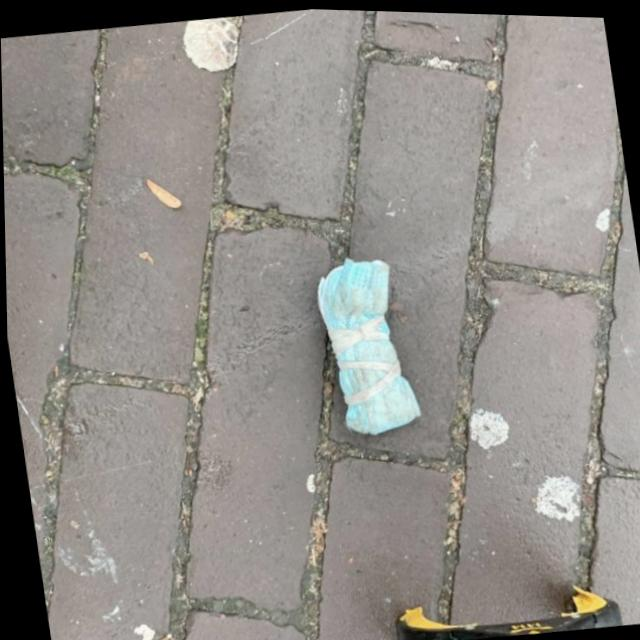Mask: (309, 245, 423, 438)
Paper: (177, 11, 251, 76)
